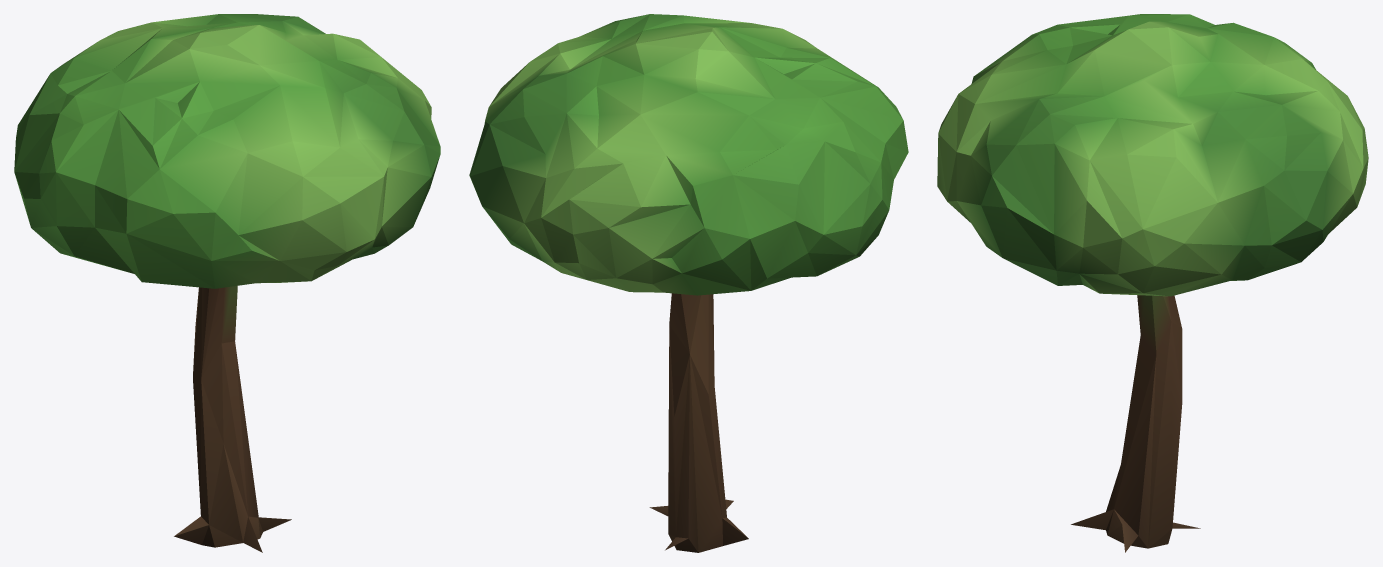
File: broadleaf_mature_medium_rounded_dense_healthy_far.glb
3 renders of one model, left to right at view 1: azimuth 30°, elevation 25°; view 2: azimuth 150°, elevation 25°; view 3: azimuth 270°, elevation 25°, orthographic.
Visible parts, largest first — view 1: broadleaf_mature_medium_rounded_dense_healthy_LOD3; view 2: broadleaf_mature_medium_rounded_dense_healthy_LOD3; view 3: broadleaf_mature_medium_rounded_dense_healthy_LOD3.
Part boxes in pixels (bbox=[...]): broadleaf_mature_medium_rounded_dense_healthy_LOD3: bbox=[14, 14, 440, 552]; broadleaf_mature_medium_rounded_dense_healthy_LOD3: bbox=[469, 14, 908, 552]; broadleaf_mature_medium_rounded_dense_healthy_LOD3: bbox=[937, 14, 1368, 552].
Size of the model in its own units: 3.27 by 4.14 by 3.2.
